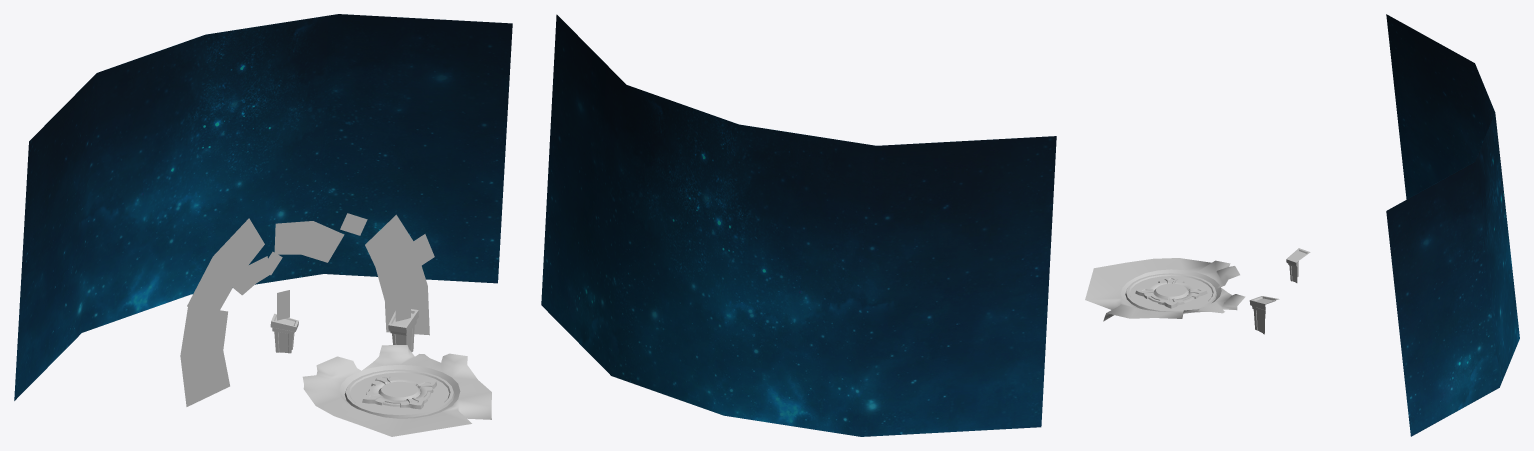
3 views of the same model, side by side, from view 1: azimuth 30°, elevation 25°; view 2: azimuth 150°, elevation 25°; view 3: azimuth 270°, elevation 25° (orthographic). The views are drawn at different scales.
Parts seen in each view (by area): view 1: sf_st02_bd01, sf_st02, sf_st02_boj08, sf_st02_boj01, sf_st02_boj02, sf_st02_boj05, sf_st02_boj11, sf_st02_boj12, sf_st02_boj04, sf_st02_boj10, sf_st02_boj07; view 2: sf_st02_bd01; view 3: sf_st02_bd01, sf_st02, sf_st02_boj12.
Part boxes in pixels (x1=…): sf_st02_bd01: x1=14, y1=14, x2=512, y2=400; sf_st02: x1=302, y1=345, x2=491, y2=436; sf_st02_boj08: x1=365, y1=214, x2=429, y2=335; sf_st02_boj01: x1=180, y1=307, x2=229, y2=406; sf_st02_boj02: x1=187, y1=218, x2=264, y2=315; sf_st02_boj05: x1=274, y1=221, x2=344, y2=262; sf_st02_boj11: x1=270, y1=313, x2=298, y2=353; sf_st02_boj12: x1=388, y1=309, x2=418, y2=351; sf_st02_boj04: x1=233, y1=256, x2=269, y2=295; sf_st02_boj10: x1=395, y1=285, x2=410, y2=321; sf_st02_boj07: x1=408, y1=234, x2=434, y2=267; sf_st02_bd01: x1=541, y1=14, x2=1056, y2=436; sf_st02_bd01: x1=1386, y1=14, x2=1519, y2=436; sf_st02: x1=1085, y1=258, x2=1245, y2=321; sf_st02_boj12: x1=1249, y1=296, x2=1279, y2=334.
Bounding box in the file's own units: 26.9 × 14.76 × 25.11.
